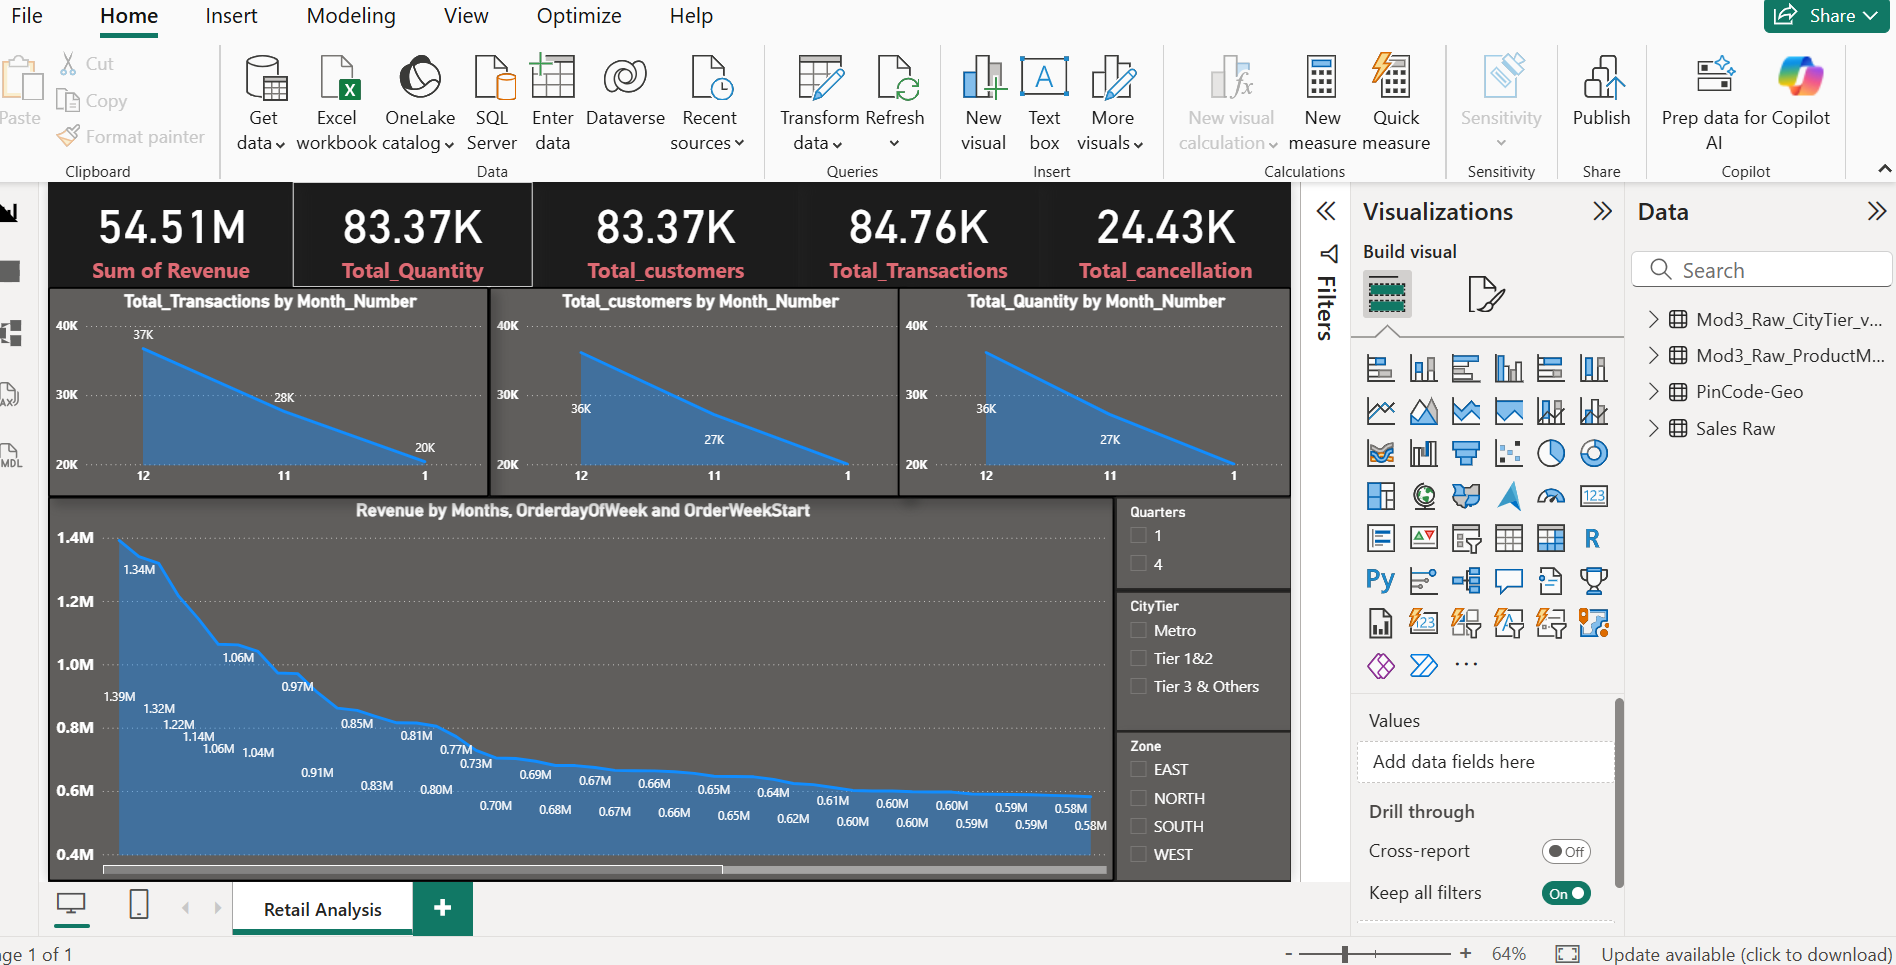

What the dashboard file says about the page in this screenshot:
{"tool":"powerbi","page":{"name":"Retail Analysis","canvas":[1280,720],"ordinal":0},"visuals":[{"type":"card","fields":{"Values":["Sum(Sales Raw.Revenue)"]},"box":[0,0,252.6,107.7],"z":0},{"type":"card","fields":{"Values":["Sales Raw.Total_customers"]},"box":[498.7,0,273.1,107.7],"z":1000},{"type":"card","fields":{"Values":["Sales Raw.Total_Transactions"]},"box":[771.8,0,248.7,107.7],"z":2000},{"type":"card","fields":{"Values":["Sales Raw.Total_cancellation"]},"box":[1019.2,0,260.3,107.7],"z":3000},{"type":"card","fields":{"Values":["Sales Raw.Total_Quantity"]},"box":[252.6,0,246.2,107.7],"z":4000},{"type":"stackedAreaChart","title":"Revenue by Months, OrderdayOfWeek and OrderWeekStart","fields":{"Category":["Sales Raw.Month_Number","Sales Raw.OrderdayOfWeek","Sales Raw.OrderWeekStart"],"Y":["Sum(Sales Raw.Revenue)"]},"box":[0,324.4,1097.4,396.2],"z":5000},{"type":"stackedAreaChart","fields":{"Category":["Sales Raw.Month_Number"],"Y":["Sales Raw.Total_customers"]},"box":[453.8,107.7,432.1,216.7],"z":6000},{"type":"stackedAreaChart","fields":{"Category":["Sales Raw.Month_Number"],"Y":["Sales Raw.Total_Quantity"]},"box":[874.4,107.7,405.1,216.7],"z":7000},{"type":"slicer","fields":{"Values":["Sales Raw.Quarters"]},"box":[1097.5,323.8,182.5,96.2],"z":8000},{"type":"slicer","fields":{"Values":["Mod3_Raw_CityTier_v0 1.CityTier"]},"box":[1097.5,420,182.5,145],"z":9000},{"type":"slicer","fields":{"Values":["PinCode-Geo.Zone"]},"box":[1097.5,565,182.5,155],"z":10000},{"type":"areaChart","fields":{"Y":["Sales Raw.Total_Transactions"],"Category":["Sales Raw.Month_Number"]},"box":[0,107.7,453.8,216.7],"z":11000}]}

Visuals, with their boxes on the page's 1280x720 design canvas (x1, y1, x2, y2). These are canvas units, not pixel positions in the 1896x965 screenshot, which may show the page scaled, cropped or inside an application window:
card - Sum(Sales Raw.Revenue): l=0, t=0, r=253, b=108
card - Sales Raw.Total_customers: l=499, t=0, r=772, b=108
card - Sales Raw.Total_Transactions: l=772, t=0, r=1020, b=108
card - Sales Raw.Total_cancellation: l=1019, t=0, r=1280, b=108
card - Sales Raw.Total_Quantity: l=253, t=0, r=499, b=108
"Revenue by Months, OrderdayOfWeek and OrderWeekStart" stackedAreaChart: l=0, t=324, r=1097, b=721
stackedAreaChart - Sales Raw.Month_Number x Sales Raw.Total_customers: l=454, t=108, r=886, b=324
stackedAreaChart - Sales Raw.Month_Number x Sales Raw.Total_Quantity: l=874, t=108, r=1280, b=324
slicer - Sales Raw.Quarters: l=1098, t=324, r=1280, b=420
slicer - Mod3_Raw_CityTier_v0 1.CityTier: l=1098, t=420, r=1280, b=565
slicer - PinCode-Geo.Zone: l=1098, t=565, r=1280, b=720
areaChart - Sales Raw.Total_Transactions x Sales Raw.Month_Number: l=0, t=108, r=454, b=324
